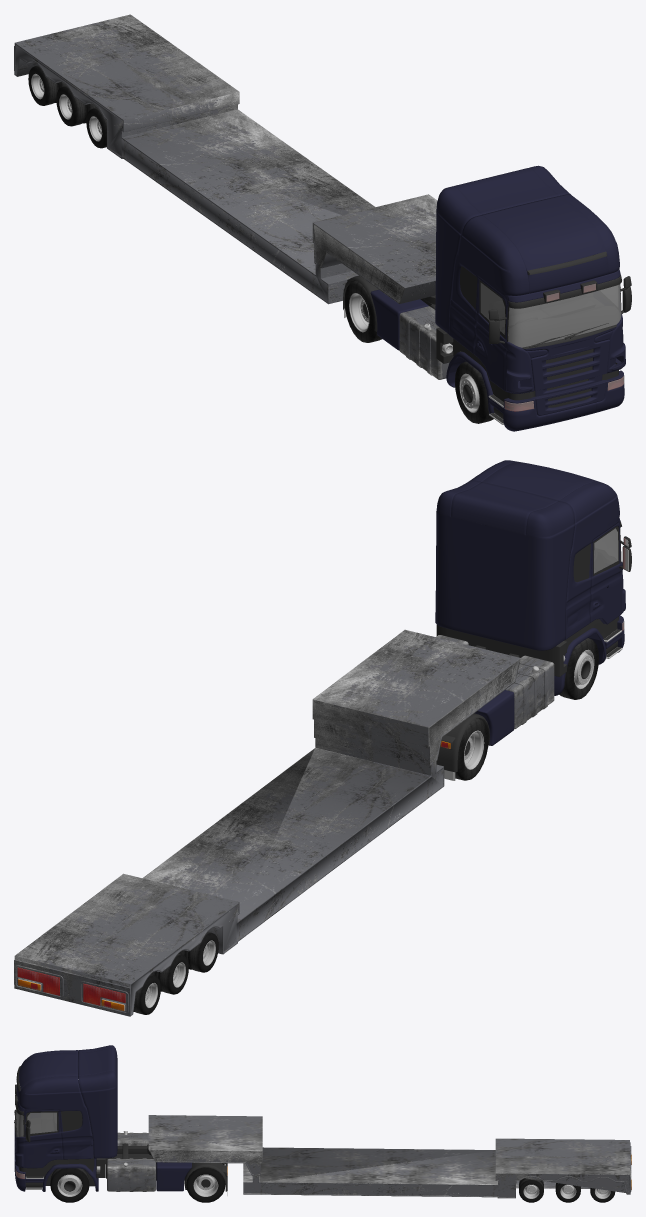
Rendered from tuoche.FBX.
The picture shows the model from 3 angles, top to bottom: view 1: azimuth 30°, elevation 25°; view 2: azimuth 150°, elevation 25°; view 3: azimuth 270°, elevation 25°; orthographic projection. The views are drawn at different scales.
Parts seen in each view (by area): view 1: tuoche; view 2: tuoche; view 3: tuoche.
Part boxes in pixels (left/top/right/bottom): tuoche: left=14, top=14, right=631, bottom=431; tuoche: left=14, top=460, right=631, bottom=1016; tuoche: left=14, top=1045, right=631, bottom=1202.
Size of the model in its own units: 440 by 608 by 2684.
10 materials, 9 textured.
